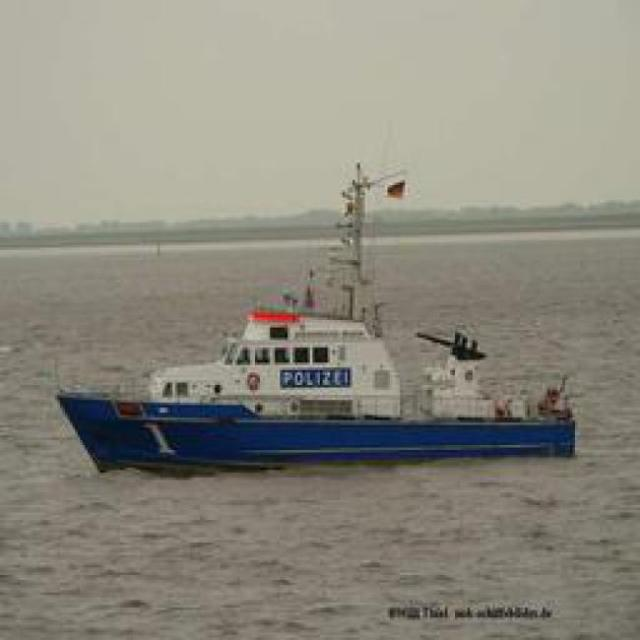boat: (53, 269, 590, 478)
